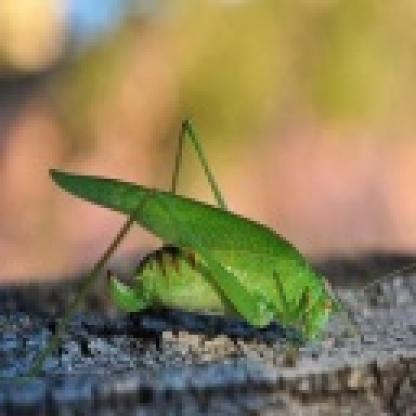grasshopper: (55, 118, 357, 343)
